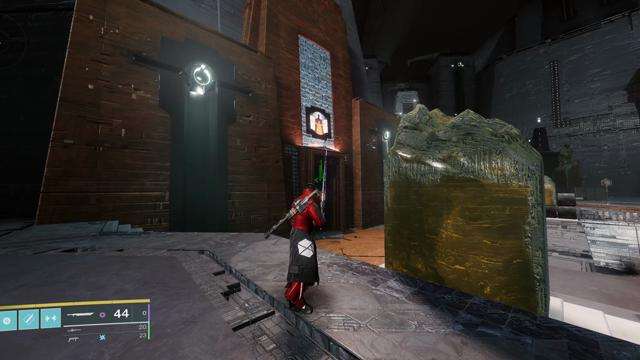worship: (310, 112, 328, 135)
